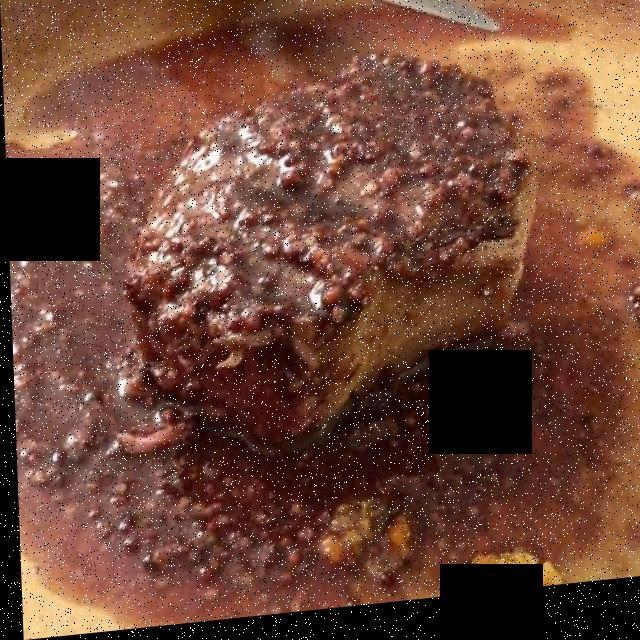sauce: (50, 59, 633, 570)
